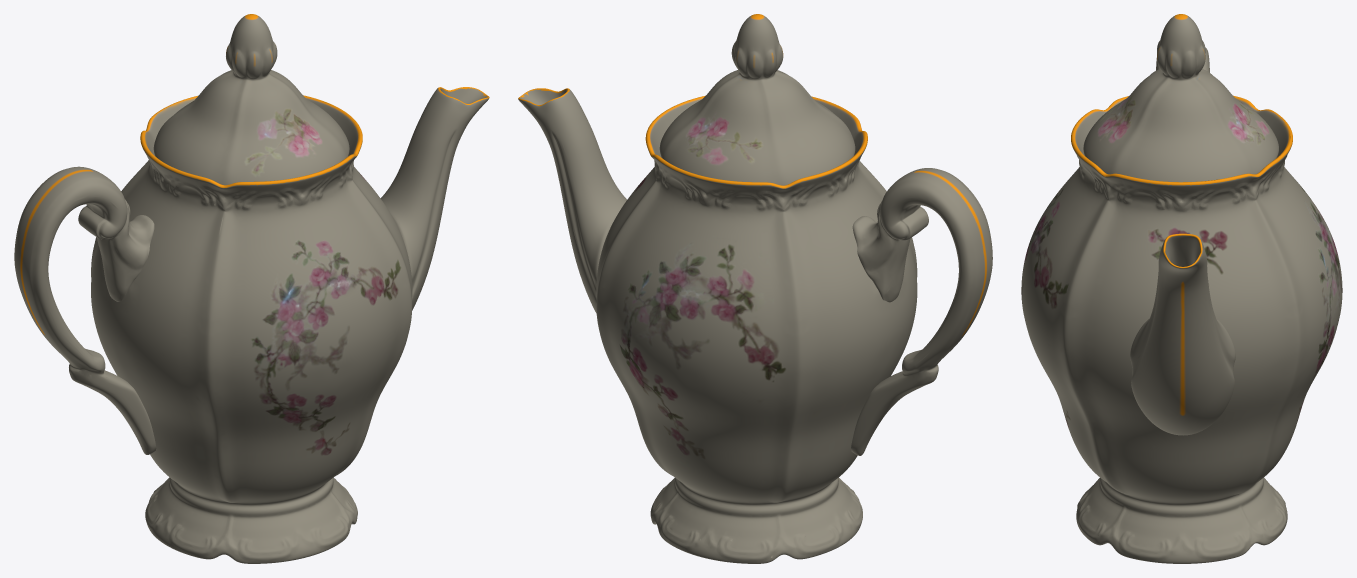
File: obj_teapot_d9dba4.glb
3 views of the same model, side by side, from view 1: azimuth 30°, elevation 25°; view 2: azimuth 150°, elevation 25°; view 3: azimuth 270°, elevation 25° (orthographic).
Parts seen in each view (by area): view 1: obj_teapot_d9dba4; view 2: obj_teapot_d9dba4; view 3: obj_teapot_d9dba4.
Boxes of the visible parts, box(x1,y1,x2,y2) form: obj_teapot_d9dba4: box(14, 14, 489, 563); obj_teapot_d9dba4: box(518, 14, 992, 563); obj_teapot_d9dba4: box(1021, 14, 1342, 563).
Size of the model in its own units: 0.2891 by 0.3 by 0.1729.
1 material, 1 textured.
